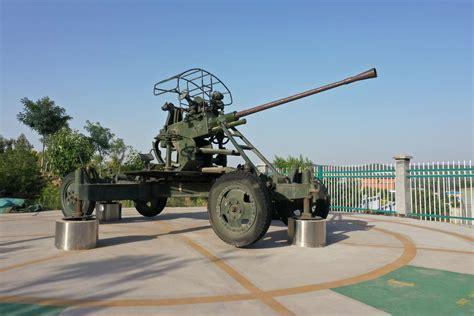MIL_SPG: (61, 69, 375, 247)
